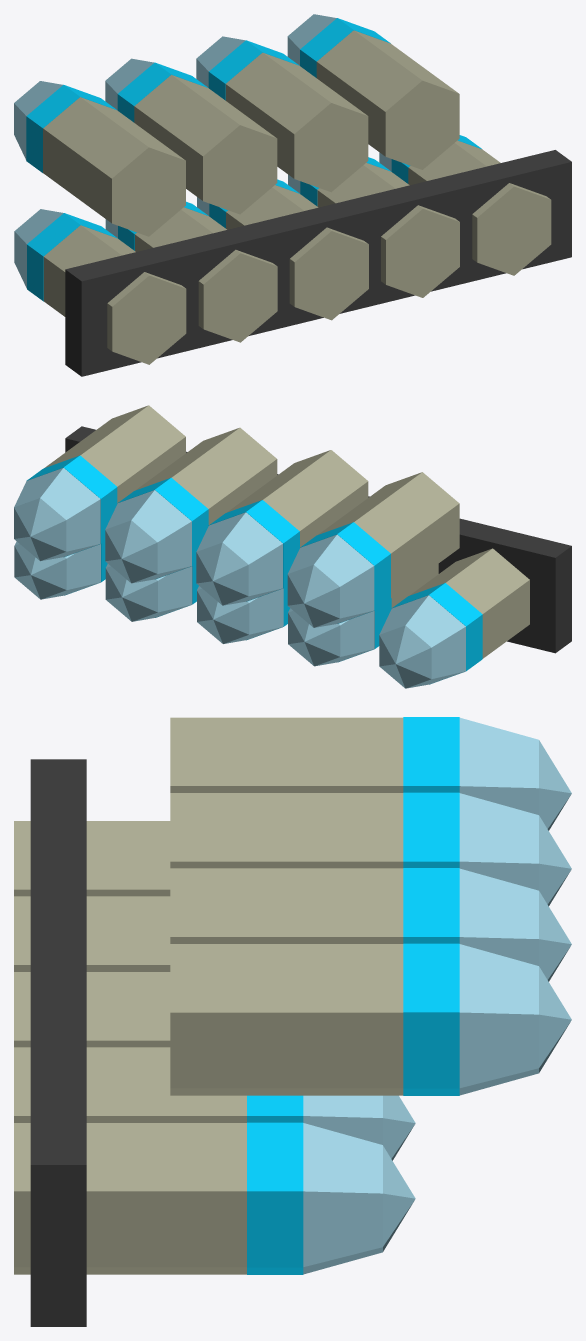
The model's file is ce_ammo_grenade_emp_b.obj.
3 views of the same model, one above another, from view 1: azimuth 30°, elevation 25°; view 2: azimuth 150°, elevation 25°; view 3: azimuth 270°, elevation 25° (orthographic). The views are drawn at different scales.
Visible parts, largest first — view 1: ce_ammo_grenade_emp_b_36, ce_ammo_grenade_emp_b_20, ce_ammo_grenade_emp_b_28, ce_ammo_grenade_emp_b_24, ce_ammo_grenade_emp_b_32, ce_ammo_grenade_emp_b_0, ce_ammo_grenade_emp_b_16, ce_ammo_grenade_emp_b_8, ce_ammo_grenade_emp_b_4, ce_ammo_grenade_emp_b_12, ce_ammo_grenade_emp_b_21, ce_ammo_grenade_emp_b_1 (+8 smaller); view 2: ce_ammo_grenade_emp_b_20, ce_ammo_grenade_emp_b_36, ce_ammo_grenade_emp_b_28, ce_ammo_grenade_emp_b_24, ce_ammo_grenade_emp_b_32, ce_ammo_grenade_emp_b_0, ce_ammo_grenade_emp_b_22, ce_ammo_grenade_emp_b_30, ce_ammo_grenade_emp_b_34, ce_ammo_grenade_emp_b_2, ce_ammo_grenade_emp_b_26, ce_ammo_grenade_emp_b_3 (+19 smaller); view 3: ce_ammo_grenade_emp_b_32, ce_ammo_grenade_emp_b_36, ce_ammo_grenade_emp_b_16, ce_ammo_grenade_emp_b_28, ce_ammo_grenade_emp_b_20, ce_ammo_grenade_emp_b_24, ce_ammo_grenade_emp_b_34, ce_ammo_grenade_emp_b_18, ce_ammo_grenade_emp_b_12, ce_ammo_grenade_emp_b_33, ce_ammo_grenade_emp_b_17, ce_ammo_grenade_emp_b_4 (+16 smaller).
Boxes of the visible parts, x1=… form: ce_ammo_grenade_emp_b_36: x1=65, y1=150, x2=571, y2=376; ce_ammo_grenade_emp_b_20: x1=43, y1=97, x2=185, y2=236; ce_ammo_grenade_emp_b_28: x1=225, y1=52, x2=368, y2=192; ce_ammo_grenade_emp_b_24: x1=134, y1=75, x2=277, y2=214; ce_ammo_grenade_emp_b_32: x1=316, y1=30, x2=459, y2=169; ce_ammo_grenade_emp_b_0: x1=43, y1=225, x2=186, y2=364; ce_ammo_grenade_emp_b_16: x1=408, y1=140, x2=551, y2=275; ce_ammo_grenade_emp_b_8: x1=226, y1=185, x2=368, y2=320; ce_ammo_grenade_emp_b_4: x1=135, y1=207, x2=277, y2=342; ce_ammo_grenade_emp_b_12: x1=317, y1=162, x2=459, y2=297; ce_ammo_grenade_emp_b_21: x1=26, y1=84, x2=116, y2=172; ce_ammo_grenade_emp_b_1: x1=27, y1=213, x2=117, y2=301; ce_ammo_grenade_emp_b_20: x1=318, y1=472, x2=459, y2=597; ce_ammo_grenade_emp_b_36: x1=65, y1=426, x2=571, y2=653; ce_ammo_grenade_emp_b_28: x1=135, y1=427, x2=277, y2=524; ce_ammo_grenade_emp_b_24: x1=226, y1=450, x2=368, y2=547; ce_ammo_grenade_emp_b_32: x1=44, y1=405, x2=185, y2=503; ce_ammo_grenade_emp_b_0: x1=409, y1=548, x2=529, y2=658; ce_ammo_grenade_emp_b_22: x1=288, y1=534, x2=374, y2=627; ce_ammo_grenade_emp_b_30: x1=105, y1=490, x2=191, y2=583; ce_ammo_grenade_emp_b_34: x1=14, y1=468, x2=100, y2=560; ce_ammo_grenade_emp_b_2: x1=379, y1=595, x2=465, y2=688; ce_ammo_grenade_emp_b_26: x1=196, y1=512, x2=282, y2=605; ce_ammo_grenade_emp_b_3: x1=379, y1=625, x2=431, y2=688; ce_ammo_grenade_emp_b_32: x1=170, y1=944, x2=403, y2=1095; ce_ammo_grenade_emp_b_36: x1=30, y1=759, x2=86, y2=1326; ce_ammo_grenade_emp_b_16: x1=14, y1=1123, x2=246, y2=1274; ce_ammo_grenade_emp_b_28: x1=170, y1=868, x2=403, y2=943; ce_ammo_grenade_emp_b_20: x1=170, y1=717, x2=403, y2=792; ce_ammo_grenade_emp_b_24: x1=170, y1=793, x2=403, y2=868; ce_ammo_grenade_emp_b_34: x1=459, y1=944, x2=538, y2=1095; ce_ammo_grenade_emp_b_18: x1=303, y1=1123, x2=382, y2=1274; ce_ammo_grenade_emp_b_12: x1=14, y1=1047, x2=246, y2=1122; ce_ammo_grenade_emp_b_33: x1=403, y1=943, x2=459, y2=1095; ce_ammo_grenade_emp_b_17: x1=247, y1=1122, x2=303, y2=1274; ce_ammo_grenade_emp_b_4: x1=14, y1=896, x2=170, y2=971.
Size of the model in its own units: 0.86 by 0.2904 by 0.5.
